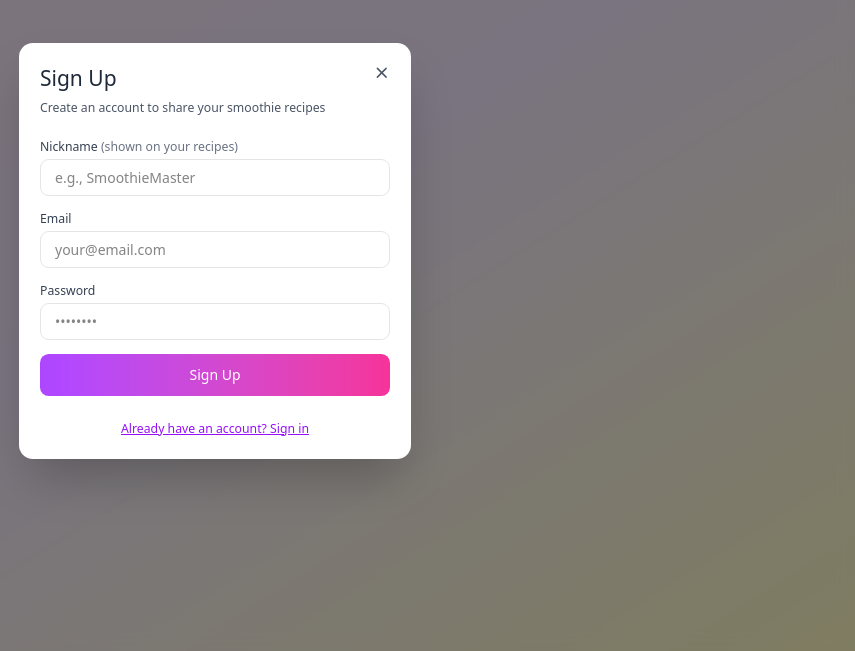
Test case: AuthModal › should display error message on sign up failure
In the field labelled "Nickname (shown on your recipes)": (215, 177) [40,159,390,196], type "TestUser"
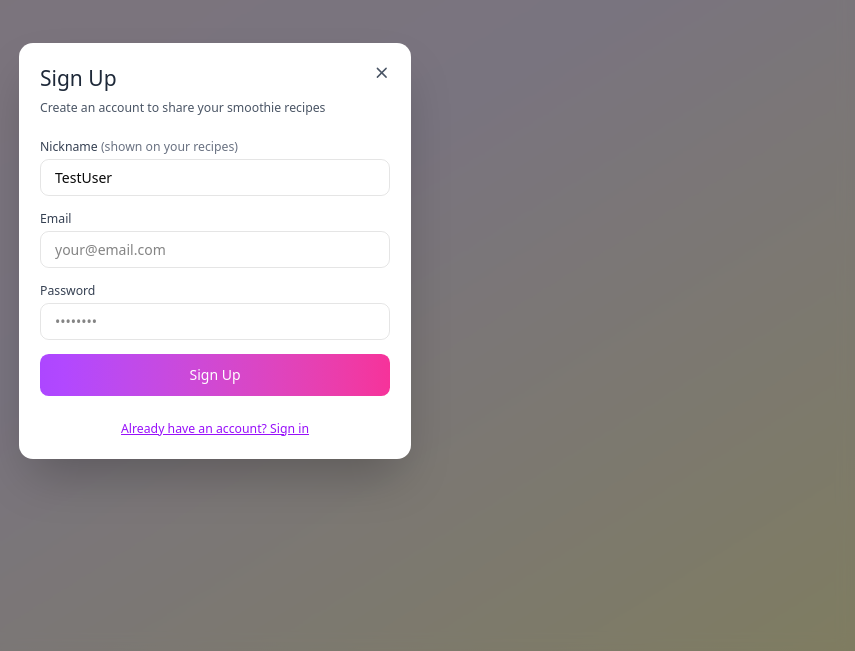
In the field labelled "Email": (215, 249) [40,231,390,268], type "existing@example.com"
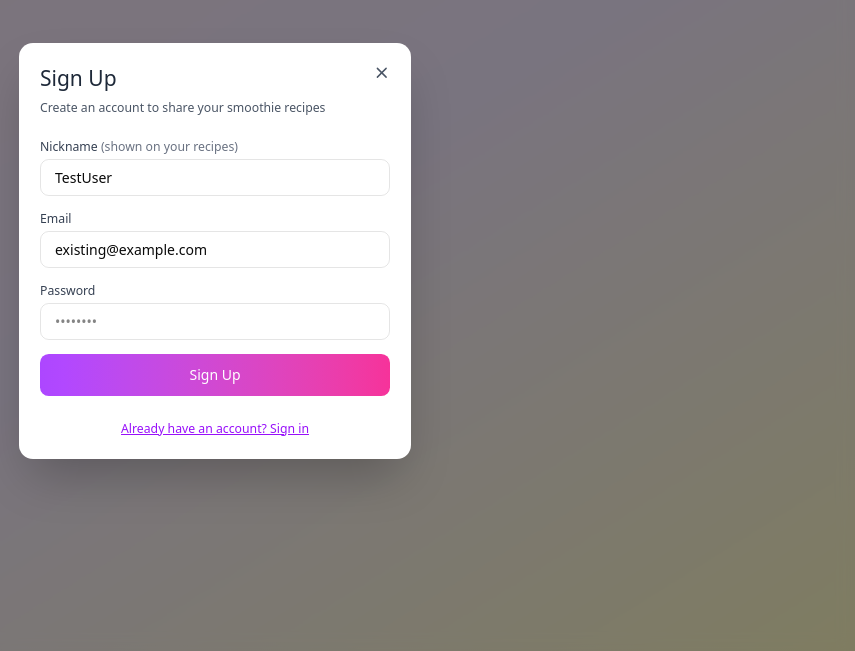
In the password field labelled "Password": (215, 321) [40,303,390,340], type "password123"
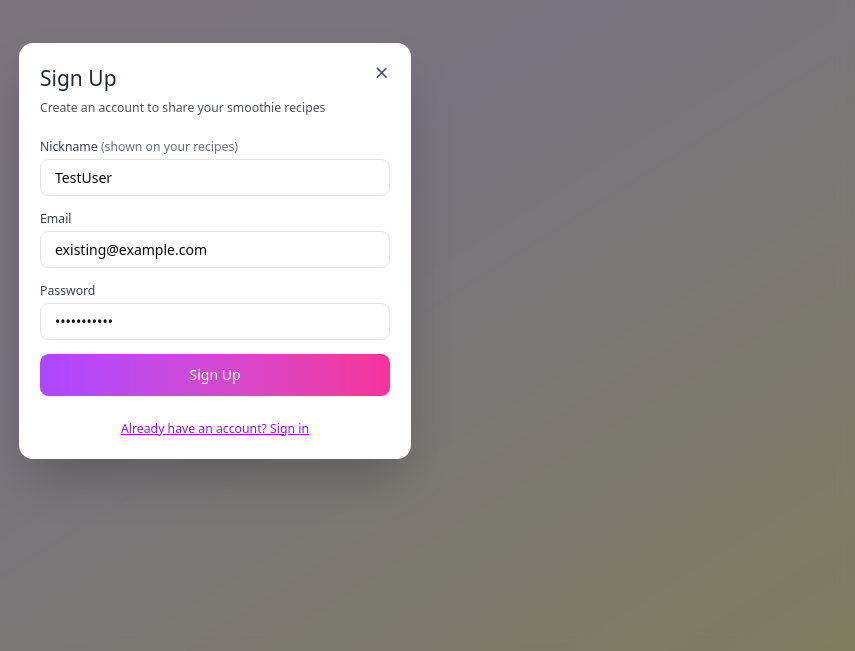
Click the button "Sign Up": (215, 375) [40,354,390,396]
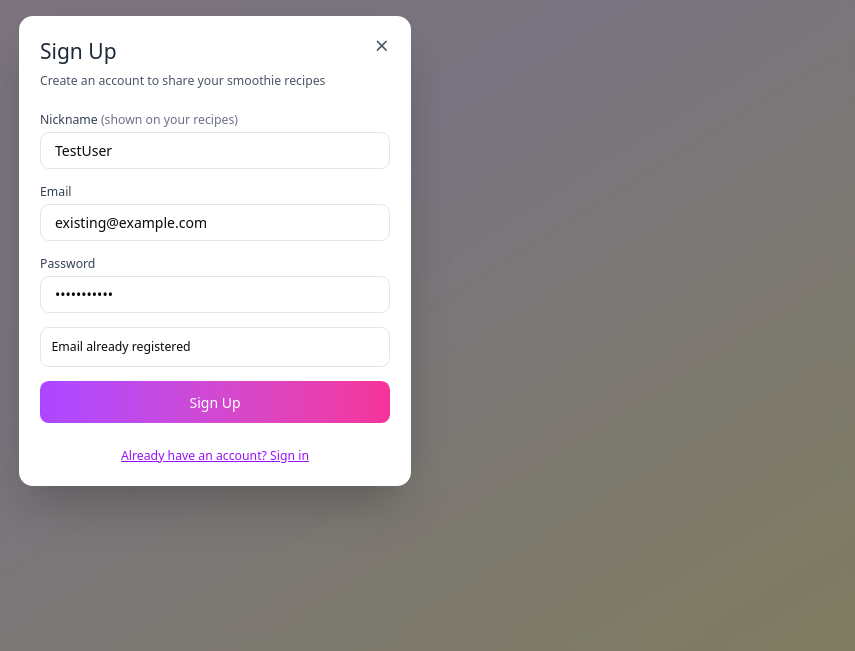
Expected: the text "Email already registered" is shown, [40,326,390,367]
